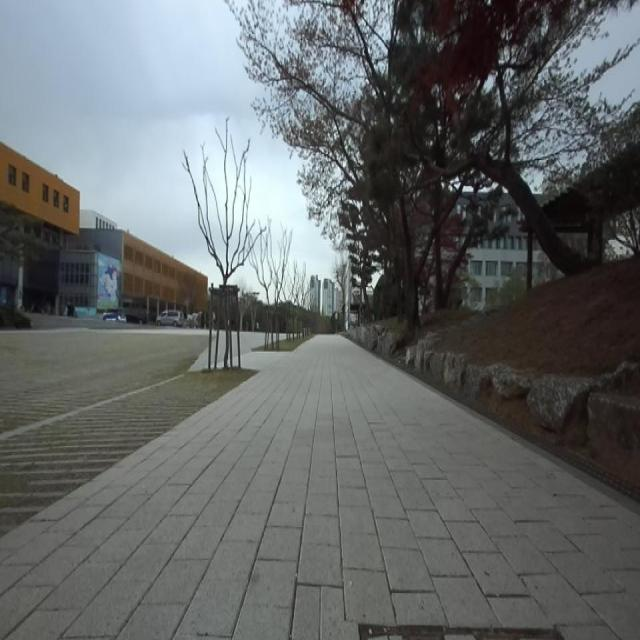sidewalk: (0, 336, 640, 639), (241, 351, 291, 370), (240, 332, 264, 354), (190, 346, 207, 370), (218, 331, 225, 368), (211, 334, 216, 367), (233, 331, 237, 364)
